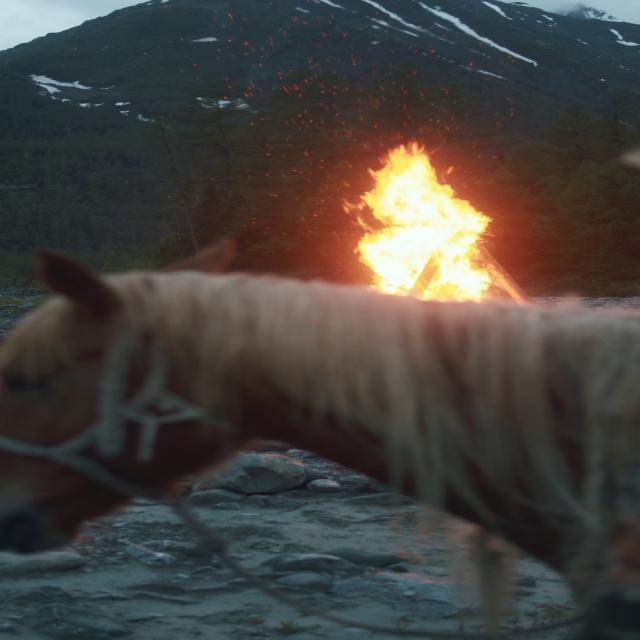Fire: (342, 138, 509, 304)
